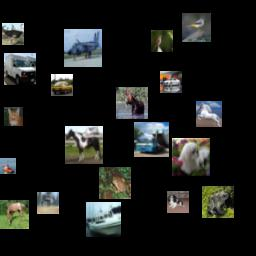airplane: (64, 29, 102, 67)
automobile: (160, 71, 182, 93), (51, 74, 73, 96)
bird: (182, 13, 211, 42), (2, 23, 24, 45), (151, 30, 173, 52)
cat: (4, 107, 23, 126)
deer: (116, 87, 148, 119), (37, 192, 59, 214)
dog: (172, 138, 210, 176), (167, 191, 189, 213)
frog: (99, 167, 131, 199), (202, 186, 234, 218)
ship: (86, 202, 121, 237), (0, 158, 16, 174)
truck: (134, 122, 169, 157), (4, 53, 36, 85)
